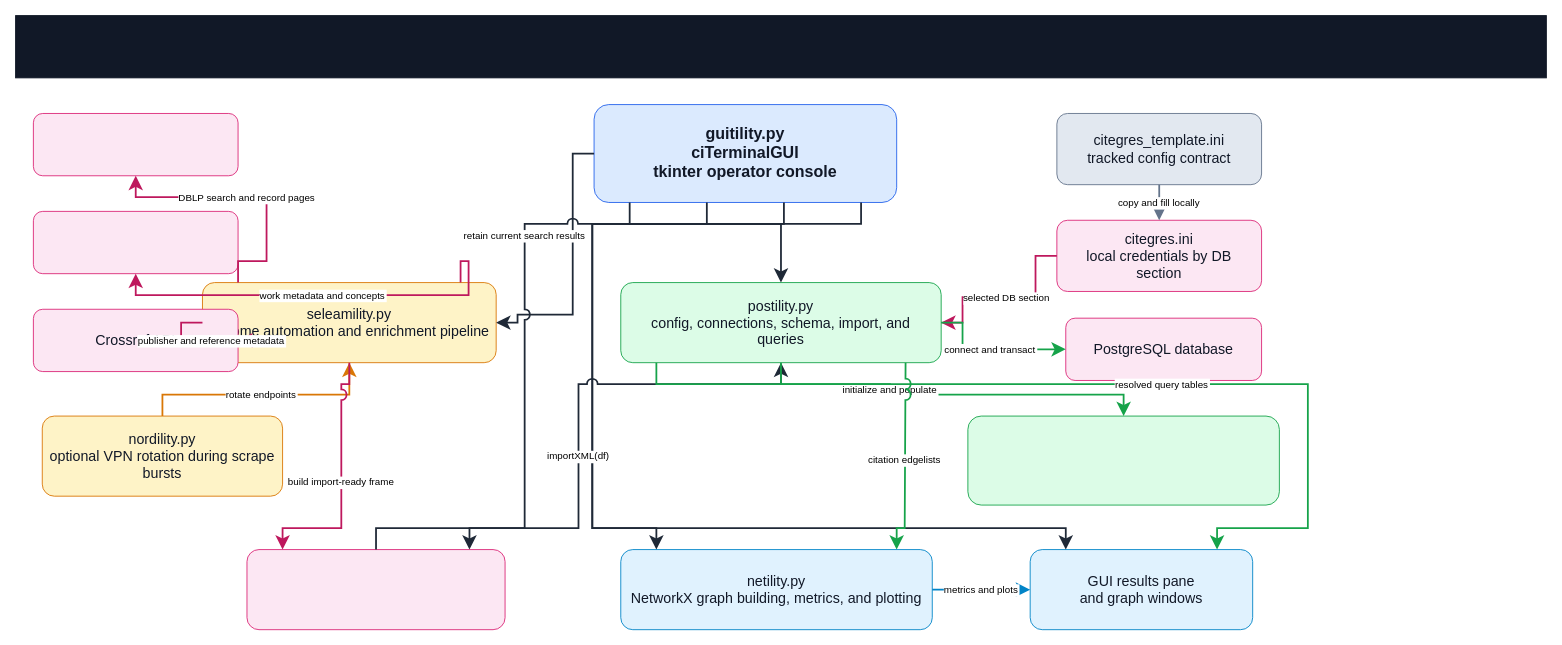
Image size: 1562x645. Some labels were removed from this diagram. The shapes that lost their labels are listed below. From the top down, each one's box as (x1, y1, x2, y2) in pixels, then its label:
(15, 15, 1546, 78): citegres Repository Architecture
(32, 113, 238, 176): DBLP search and XML API
(32, 210, 238, 274): OpenAlex API
(967, 415, 1279, 505): Schema lifecycle papers_raw staging to normalized citation tables
(246, 549, 505, 630): Enriched pandas DataFrame and local __df.pkl snapshot
